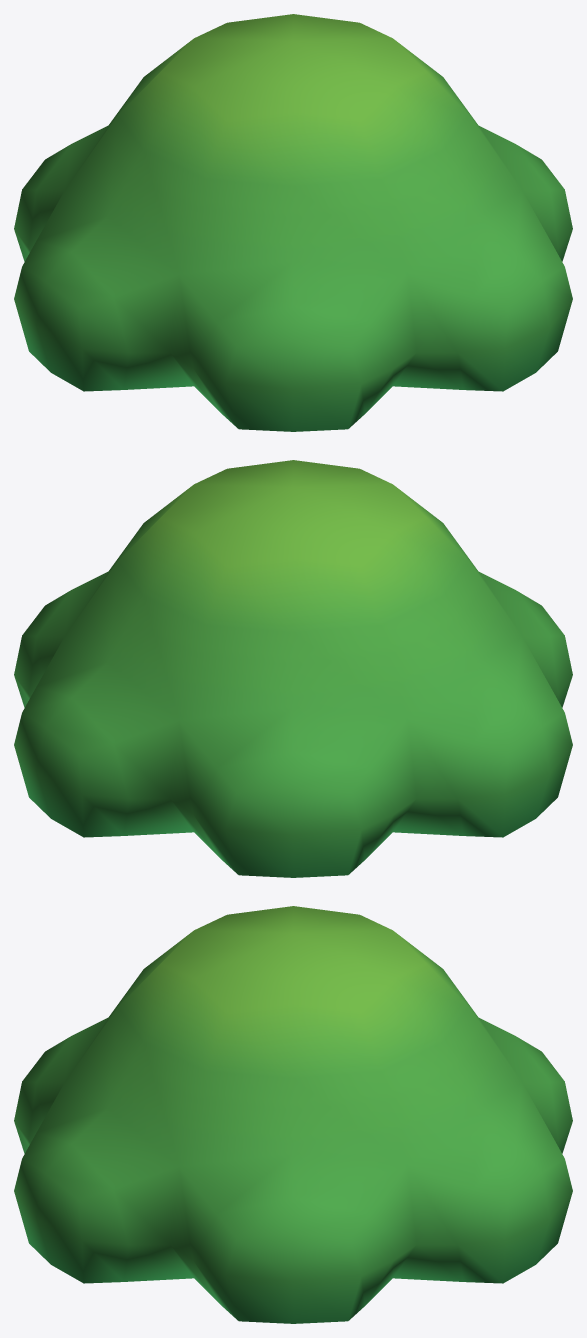
File: bush_large.fbx
3 views of the same model, one above another, from view 1: azimuth 30°, elevation 25°; view 2: azimuth 150°, elevation 25°; view 3: azimuth 270°, elevation 25° (orthographic).
Visible parts, largest first — view 1: bush_large; view 2: bush_large; view 3: bush_large.
Part boxes in pixels (<box>): bush_large: <box>14,14,572,431</box>; bush_large: <box>14,460,572,877</box>; bush_large: <box>14,906,572,1323</box>.
Size of the model in its own units: 150 by 75.92 by 141.
Materials: 1 (1 with a texture image).
